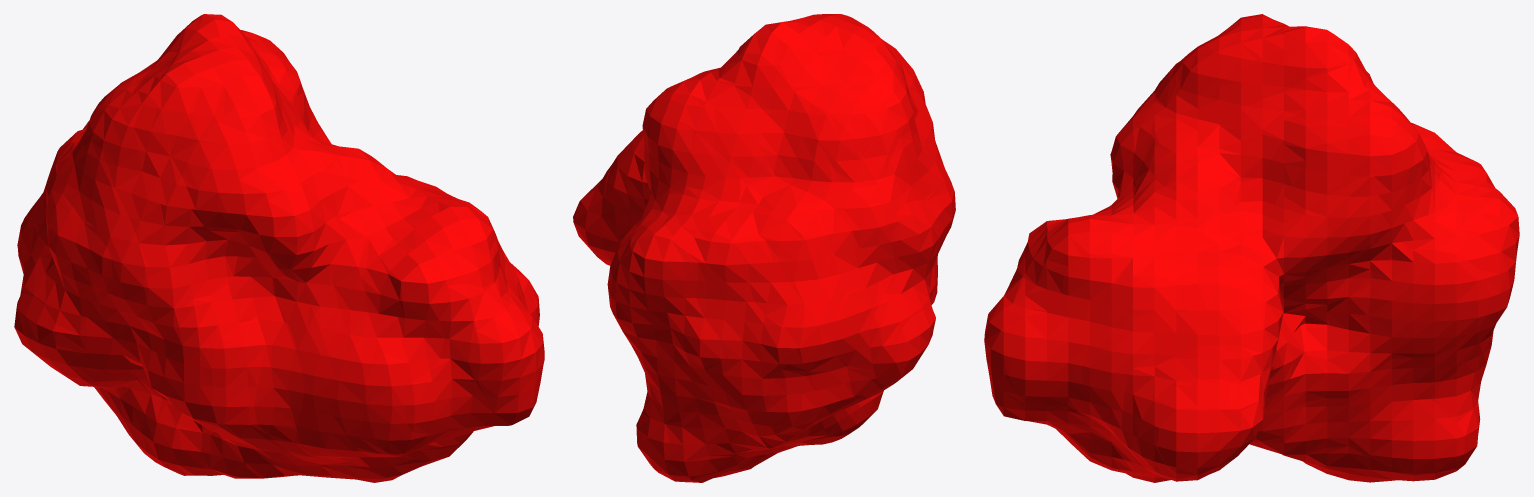
Rendered from alaC_coarse.dae.
The picture shows the model from 3 angles, left to right: view 1: azimuth 30°, elevation 25°; view 2: azimuth 150°, elevation 25°; view 3: azimuth 270°, elevation 25°; orthographic projection. The views are drawn at different scales.
Parts seen in each view (by area): view 1: alaC; view 2: alaC; view 3: alaC.
Boxes of the visible parts, x1,y1,x2,y2 form: alaC: (14,14,544,482); alaC: (573,14,955,482); alaC: (984,14,1519,482).
Size of the model in its own units: 59.49 by 60.26 by 66.12.
